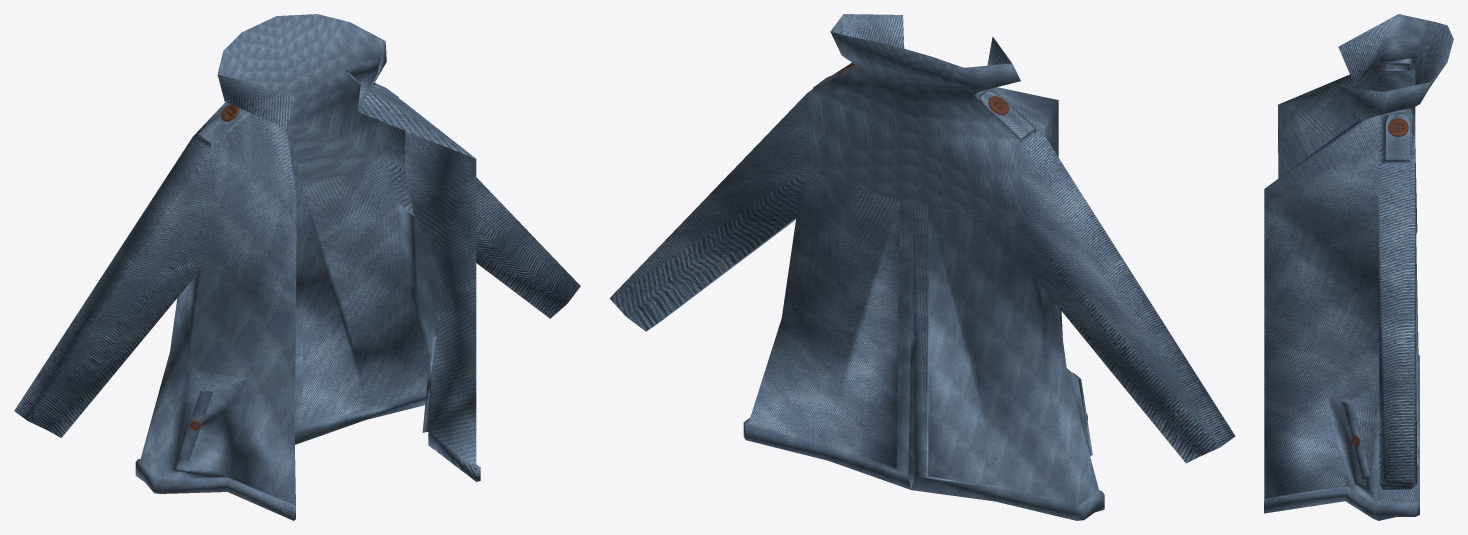
The model's file is CasacoAberto.gltf.
3 views of the same model, side by side, from view 1: azimuth 30°, elevation 25°; view 2: azimuth 150°, elevation 25°; view 3: azimuth 270°, elevation 25° (orthographic). The views are drawn at different scales.
Parts seen in each view (by area): view 1: CasacoAberto; view 2: CasacoAberto; view 3: CasacoAberto.
Part boxes in pixels (x1=…): CasacoAberto: x1=14, y1=14, x2=580, y2=520; CasacoAberto: x1=609, y1=14, x2=1235, y2=520; CasacoAberto: x1=1264, y1=14, x2=1453, y2=520.
Size of the model in its own units: 85.94 by 62.68 by 25.58.
5 materials, 1 textured.
